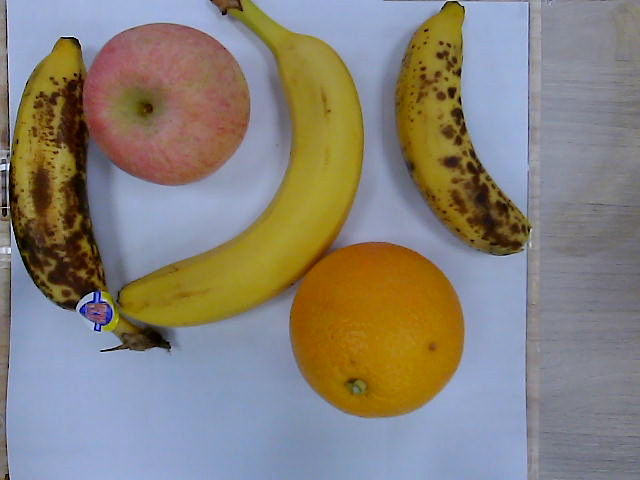fresh_apple: (84, 21, 252, 188)
fresh_banana: (124, 4, 365, 323)
fresh_orange: (289, 243, 464, 419)
rotten_banana: (9, 38, 168, 354), (397, 3, 535, 255)
